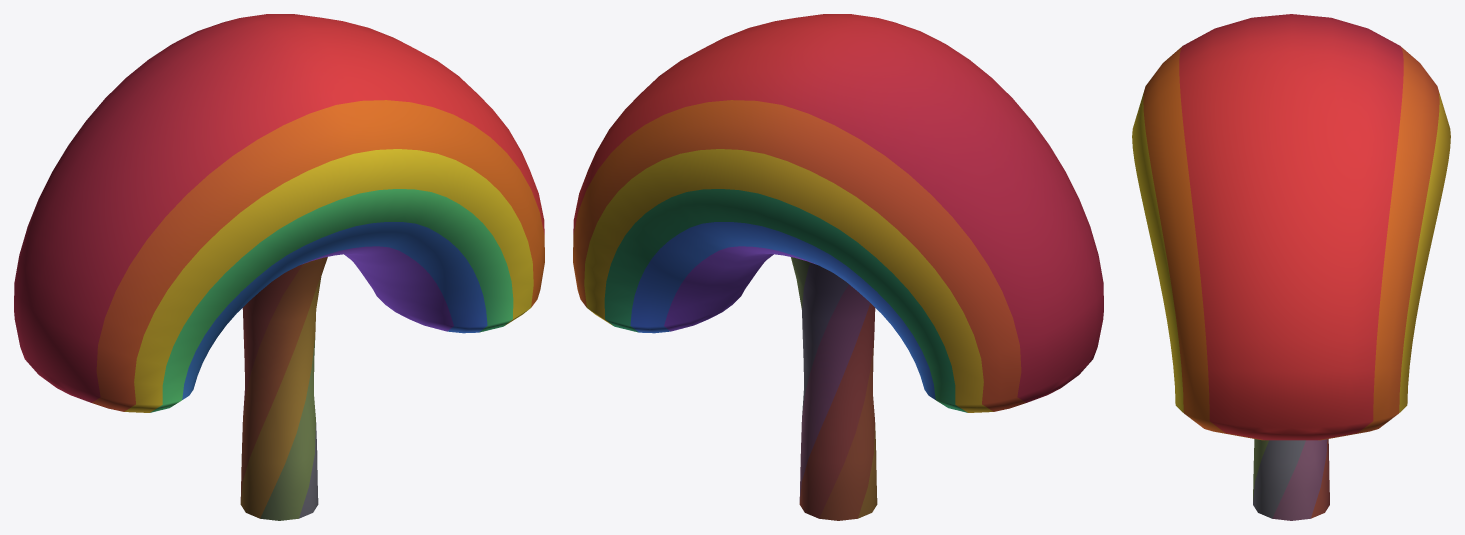
The model's file is Prismwood_Tree_Remake_Thin.glb.
3 views of the same model, side by side, from view 1: azimuth 30°, elevation 25°; view 2: azimuth 150°, elevation 25°; view 3: azimuth 270°, elevation 25° (orthographic).
Visible parts, largest first — view 1: Prismwood_Remake; view 2: Prismwood_Remake; view 3: Prismwood_Remake.
Boxes of the visible parts, x1=… form: Prismwood_Remake: x1=14, y1=14, x2=544, y2=520; Prismwood_Remake: x1=573, y1=14, x2=1103, y2=520; Prismwood_Remake: x1=1132, y1=14, x2=1450, y2=520.
Size of the model in its own units: 11.65 by 10.71 by 6.6.
